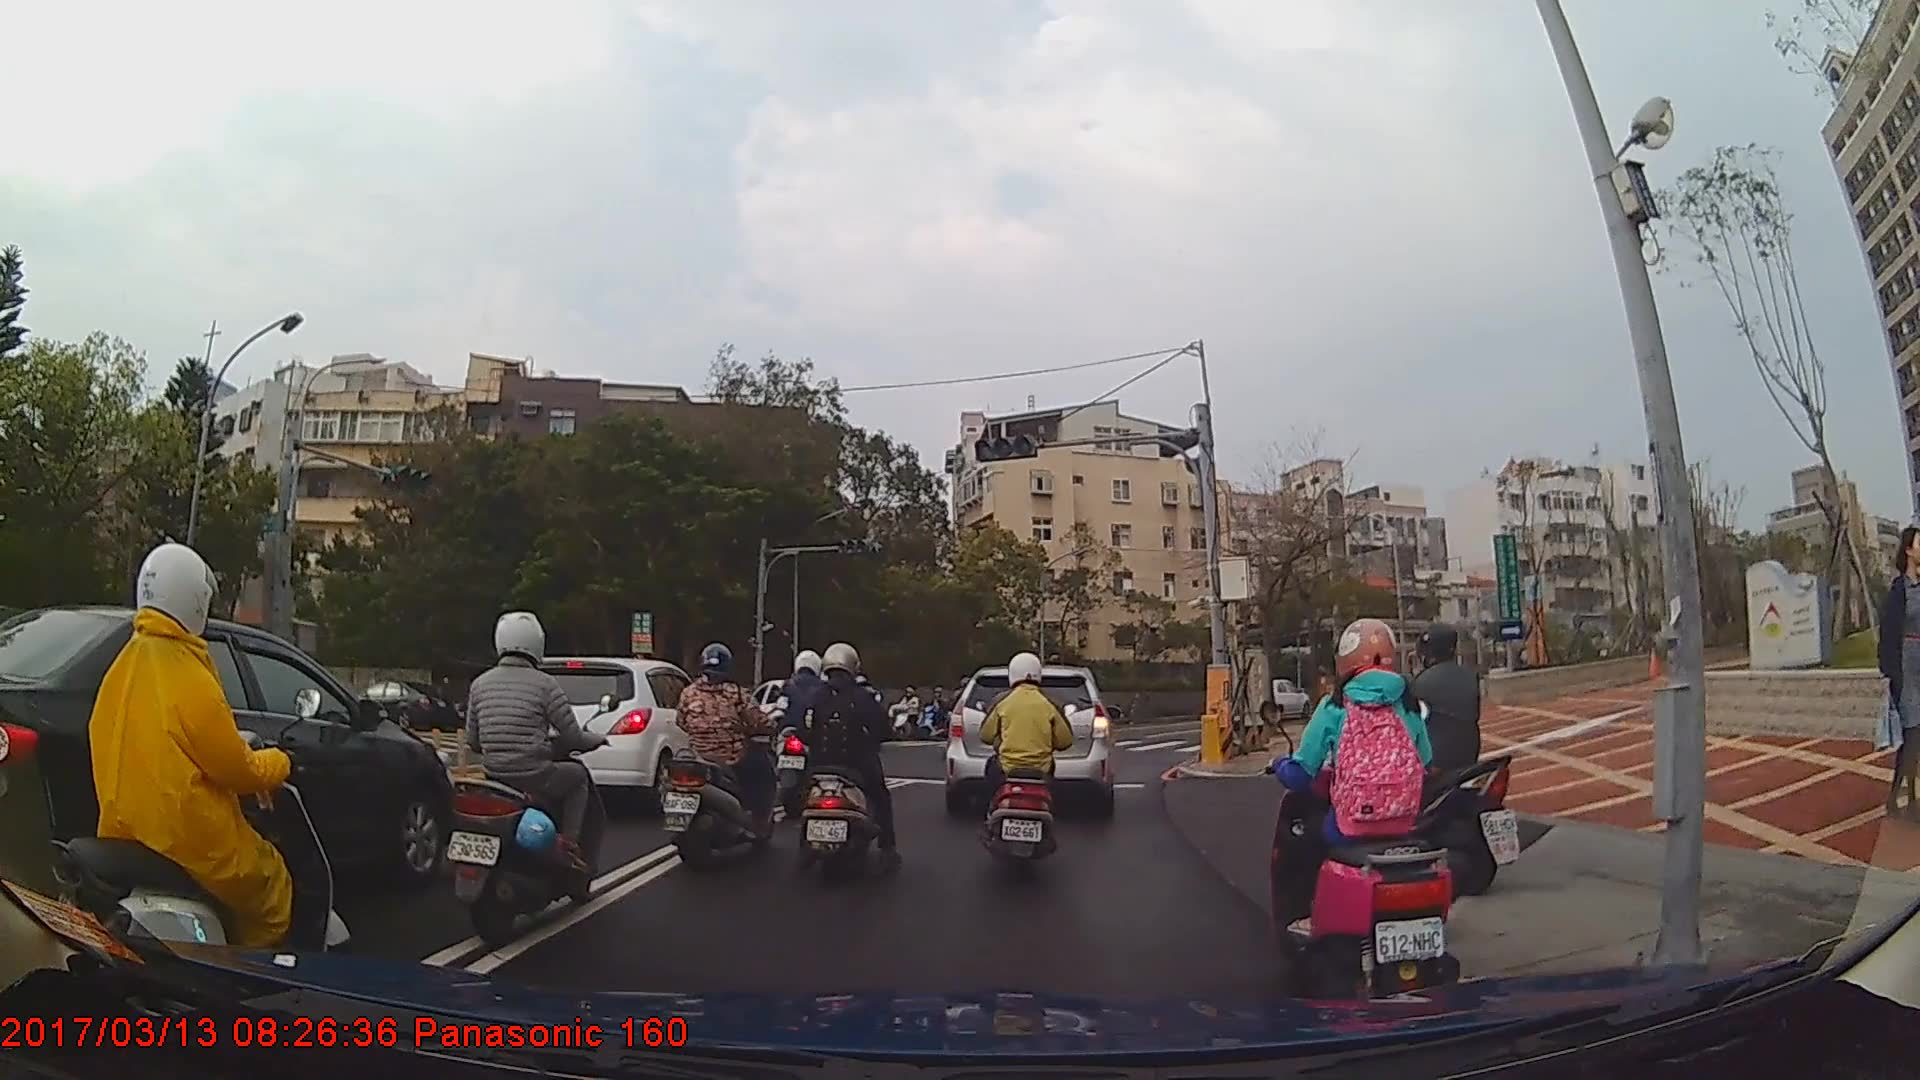pedestrian: (1871, 518, 1920, 820)
rider: (49, 542, 354, 1009), (1266, 618, 1452, 992), (441, 607, 615, 953), (1360, 621, 1519, 894), (789, 640, 904, 888), (664, 642, 786, 876), (982, 650, 1078, 874), (768, 649, 839, 819), (952, 670, 1010, 767)
vehicle: (0, 604, 460, 953), (504, 654, 737, 816), (939, 665, 1116, 818), (348, 680, 457, 731), (1254, 676, 1308, 722)
